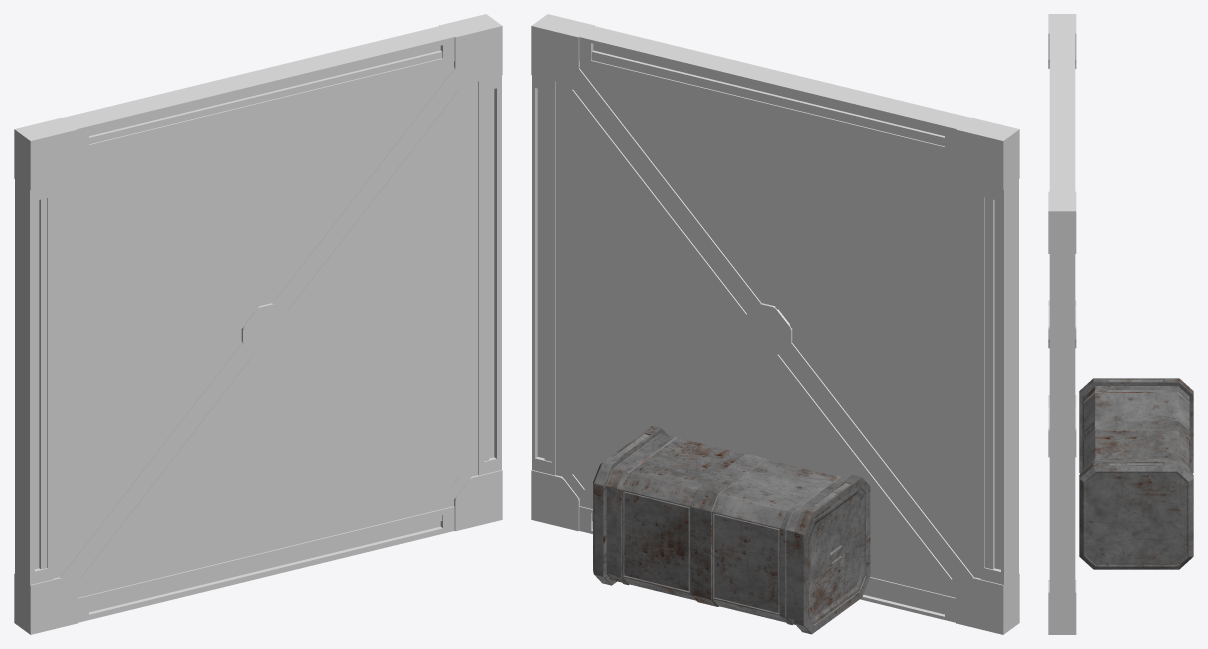
The model's file is ParedContainer.Completa001.fbx.
The picture shows the model from 3 angles, left to right: view 1: azimuth 30°, elevation 25°; view 2: azimuth 150°, elevation 25°; view 3: azimuth 270°, elevation 25°; orthographic projection. The views are drawn at different scales.
Parts seen in each view (by area): view 1: Pared.Completo.005, Viga; view 2: Pared.Completo.005, Viga, Container.001, Container_Tapa.001; view 3: Container.001, Viga.
Part boxes in pixels (x1,y1,x2,y2): Pared.Completo.005: [39, 50, 489, 606]; Viga: [14, 14, 502, 634]; Pared.Completo.005: [544, 50, 994, 606]; Viga: [531, 14, 1019, 634]; Container.001: [593, 426, 870, 634]; Container_Tapa.001: [808, 487, 865, 623]; Container.001: [1079, 378, 1193, 569]; Viga: [1048, 14, 1076, 634].
Size of the model in its own units: 2000 by 2000 by 622.
Materials: 4 (2 with a texture image).
